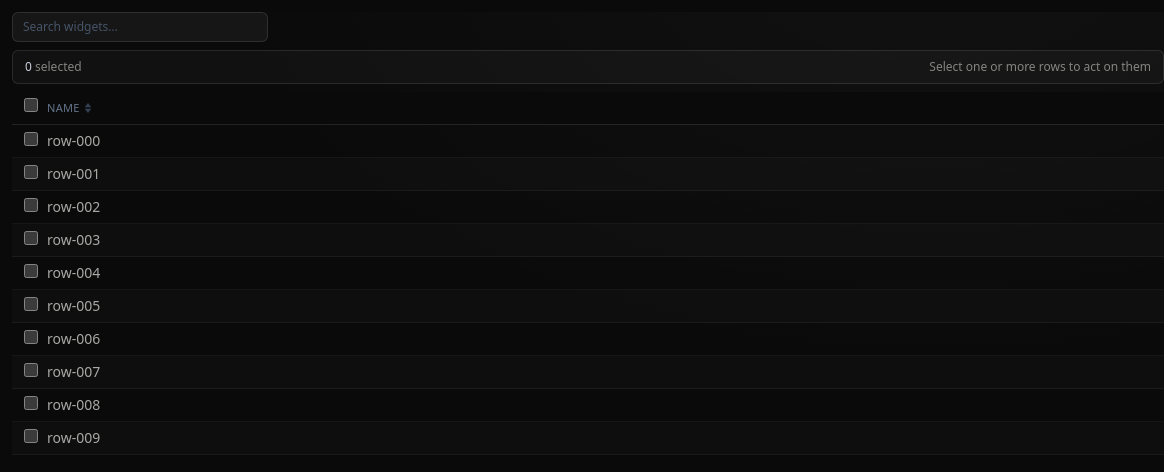
DataTable — selection › ⚠ THE BAR IS PRESENT AT ZERO — a footer that appears on first click moves the layout under the cursor
Expected: the text "Select one or more rows to act on them" is shown, top-left (929, 59), bottom-right (1151, 75)
Expected: the button "Revoke" is not shown
What coordinates should you click on to do the following:
click the checkbox named "Select row-000"
I would click on:
 (31, 139)
Its box is top-left (24, 132), bottom-right (38, 146).
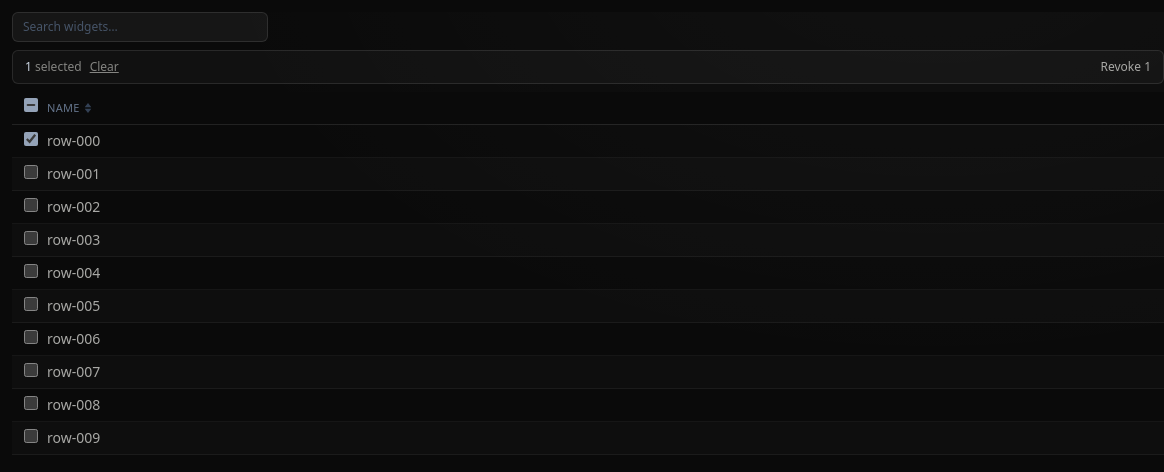
Expected: the button "Revoke 1" is shown, top-left (1100, 59), bottom-right (1151, 75)
